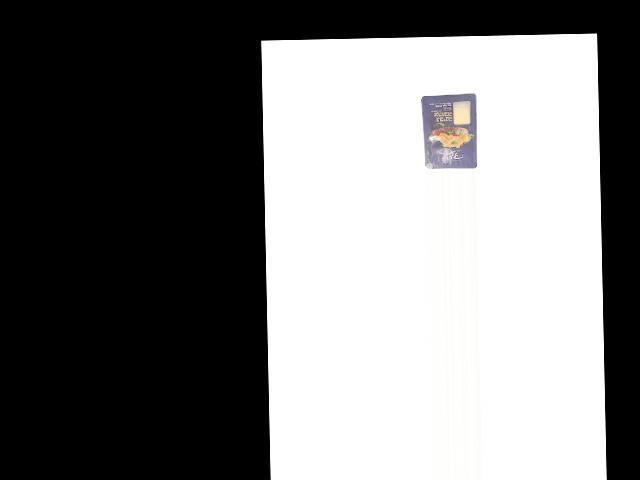cheese: (419, 93, 477, 170)
